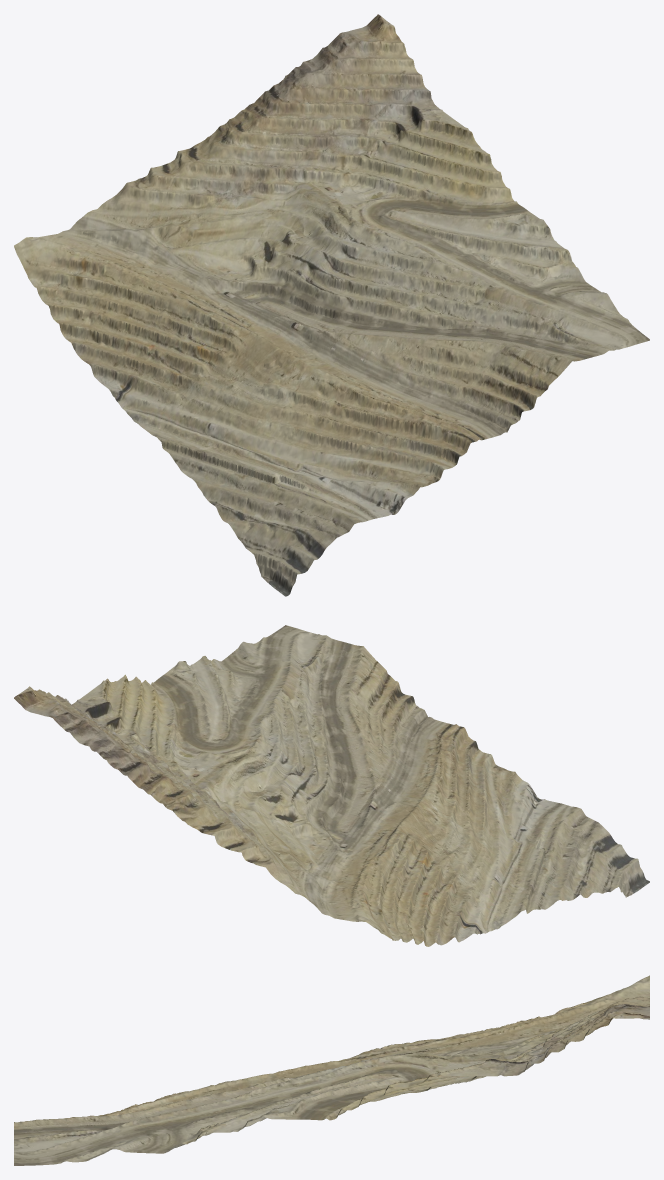
3 renders of one model, top to bottom at view 1: azimuth 30°, elevation 25°; view 2: azimuth 150°, elevation 25°; view 3: azimuth 270°, elevation 25°, orthographic. The views are drawn at different scales.
Visible parts, largest first — view 1: l2-3-2; view 2: l2-3-2; view 3: l2-3-2.
Boxes of the visible parts, <box> form: l2-3-2: <box>14,14,649,596</box>; l2-3-2: <box>14,625,649,946</box>; l2-3-2: <box>14,975,649,1165</box>.
Size of the model in its own units: 595 by 461 by 768.
1 material, 1 textured.
